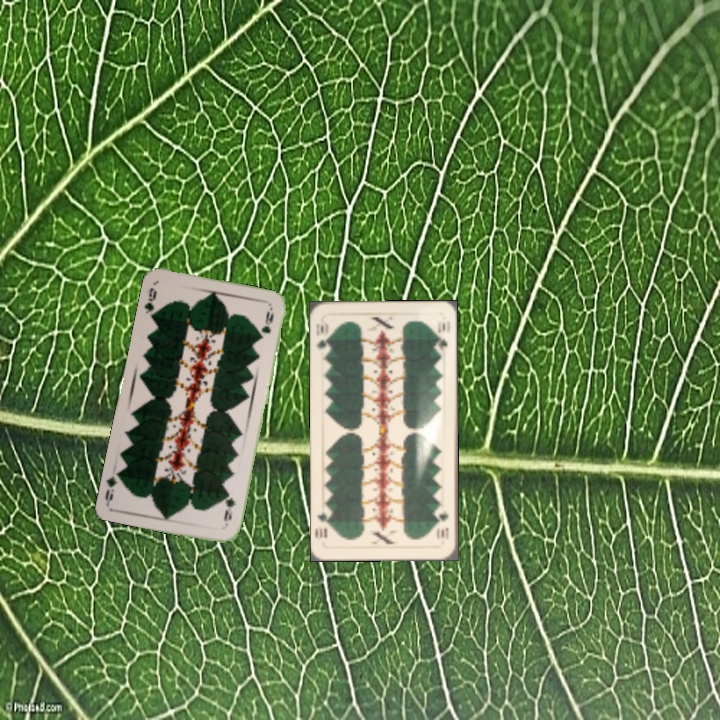G10: (312, 316, 332, 356), (434, 506, 451, 542)
G9: (220, 489, 238, 528), (140, 284, 159, 316)
